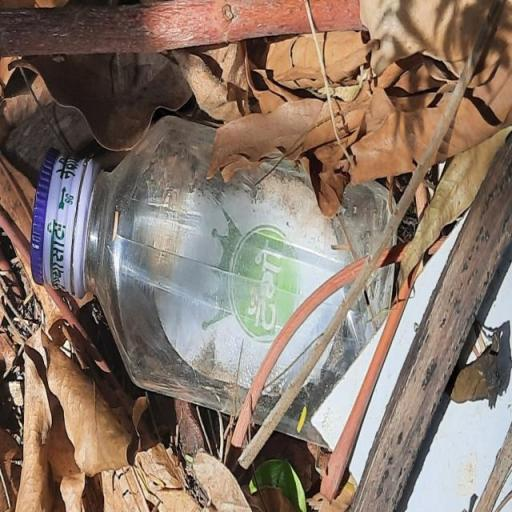glass: (48, 117, 403, 425)
